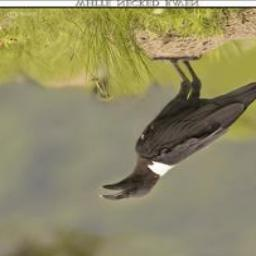Crow: (97, 54, 256, 203)
